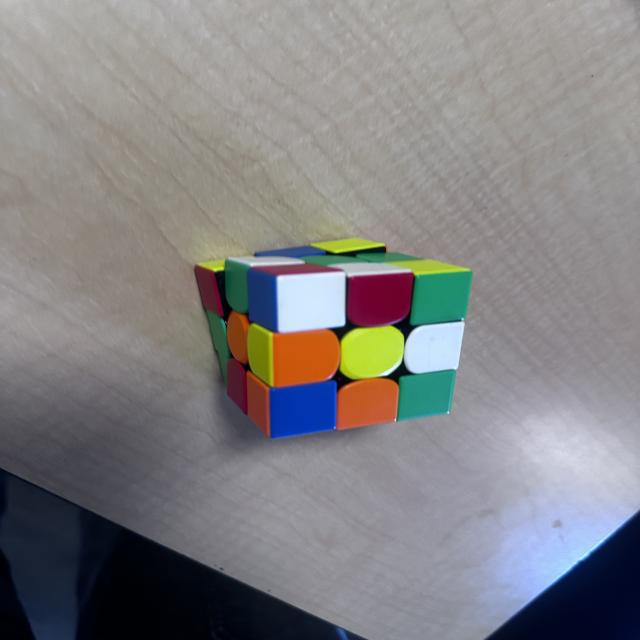sticker: (369, 256, 471, 330), (244, 262, 344, 335), (247, 323, 341, 389), (248, 371, 337, 440), (324, 262, 412, 331), (223, 254, 304, 317), (338, 325, 405, 381), (401, 320, 467, 376), (334, 376, 399, 432), (395, 368, 457, 423), (193, 260, 228, 320), (205, 308, 232, 381), (309, 236, 388, 258), (246, 372, 271, 436), (227, 310, 252, 365), (226, 358, 249, 416), (256, 244, 327, 258), (300, 254, 369, 267), (360, 252, 420, 264)
